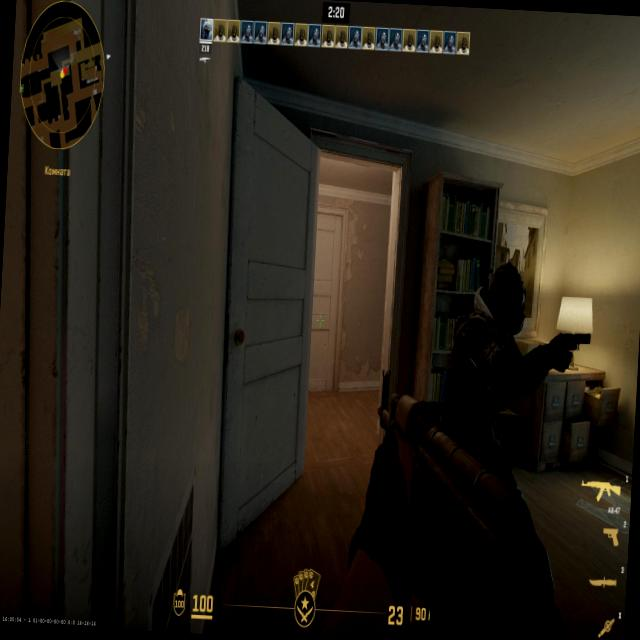CT: (476, 271, 517, 425)
CT_heat: (496, 285, 514, 315)
